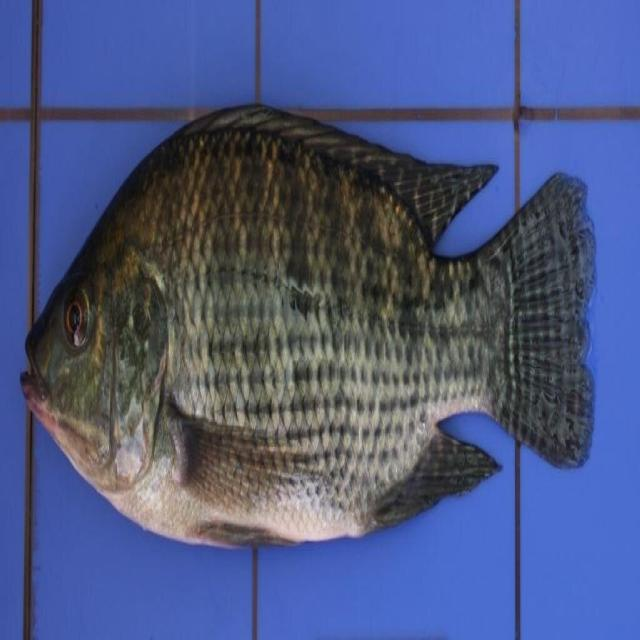ikan: (19, 99, 597, 552)
